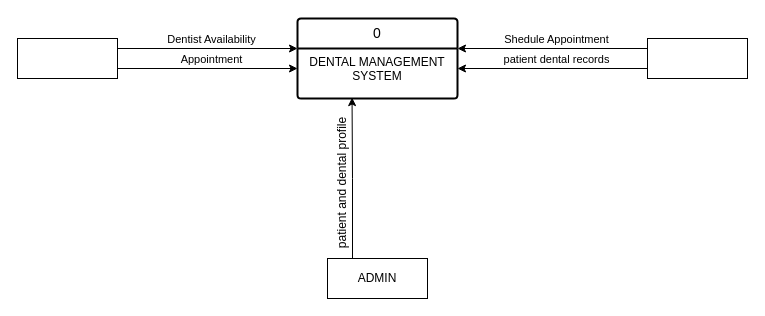
The diagram is 765 pixels wide and 316 high, and some of its shapes have lost their labels. Here are the shapes that lost their labels. From the top down, the centre of each, then its label:
At point (67, 58): "PATIENT".
At point (697, 58): "DENTIST".
